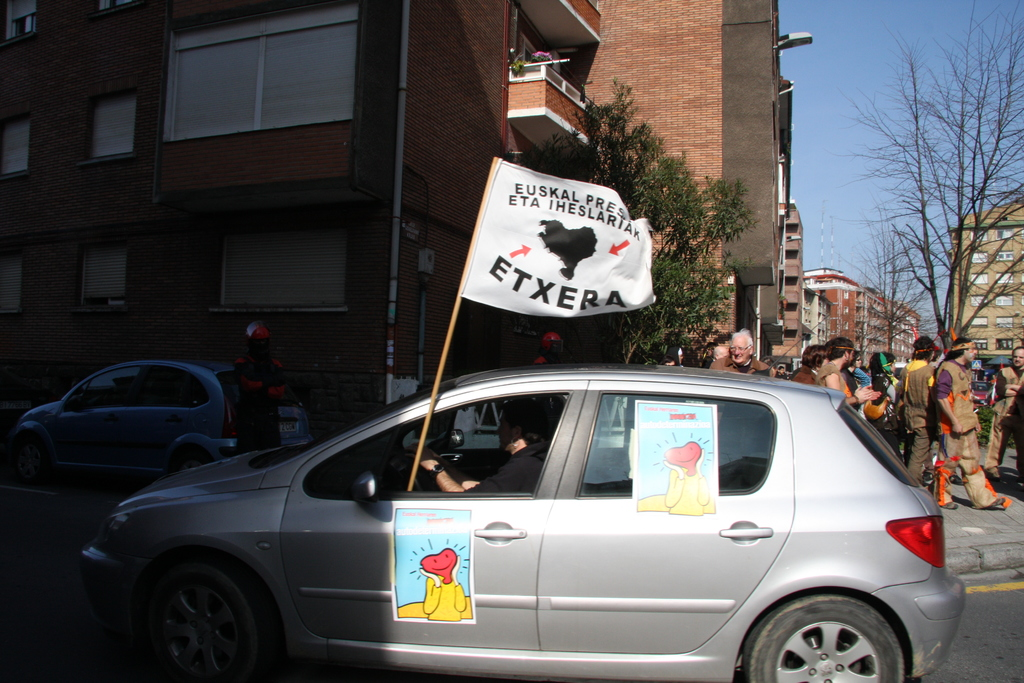Car: (76, 362, 963, 682), (0, 351, 248, 483)
